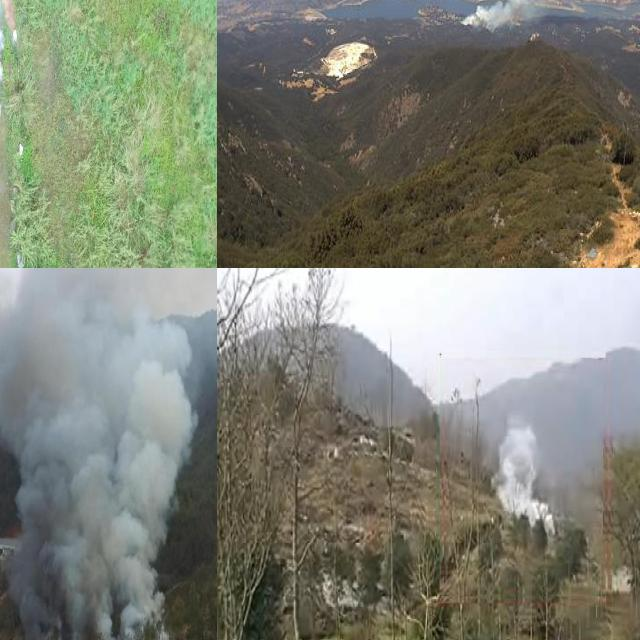fire: (7, 544, 180, 640)
smoke: (0, 268, 200, 640), (488, 415, 554, 534), (456, 0, 624, 33)
